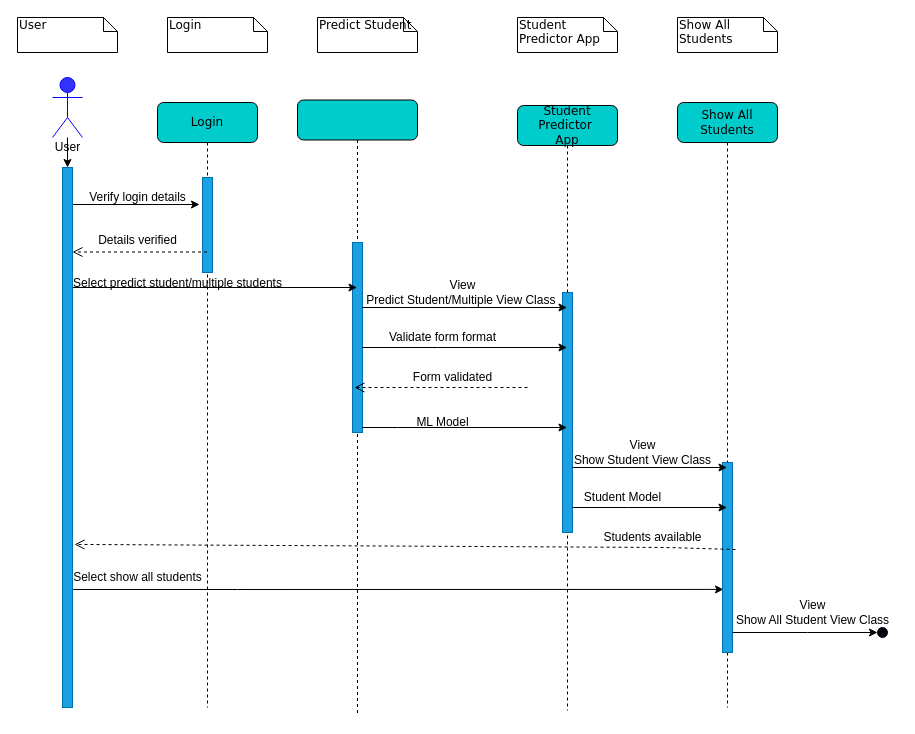
Image size: 915x734. Some labels were removed from this diagram. Here are the shapes that lost their labels. From the top down, the centre of each, then its label:
pixel 67 107: Student
pixel 357 407: Predict Student/ Predict Multiple Students
